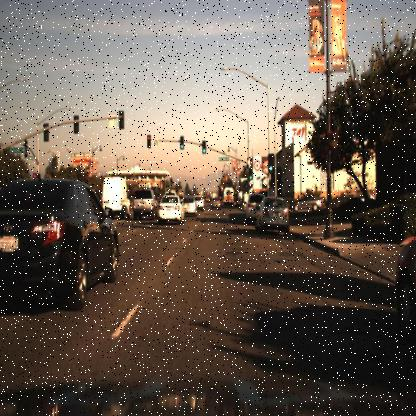car: (0, 173, 125, 316), (256, 194, 289, 241), (131, 183, 160, 222), (156, 196, 185, 222), (290, 192, 326, 212), (180, 194, 198, 220), (208, 195, 222, 212), (195, 194, 205, 215)
trafficLight-Green: (266, 156, 274, 177), (267, 151, 274, 173), (247, 165, 254, 183), (180, 136, 186, 156), (202, 138, 208, 154), (248, 168, 254, 183)
trafficLight-RedLeft: (144, 130, 152, 152)
truck: (101, 172, 130, 220), (222, 186, 234, 206)
